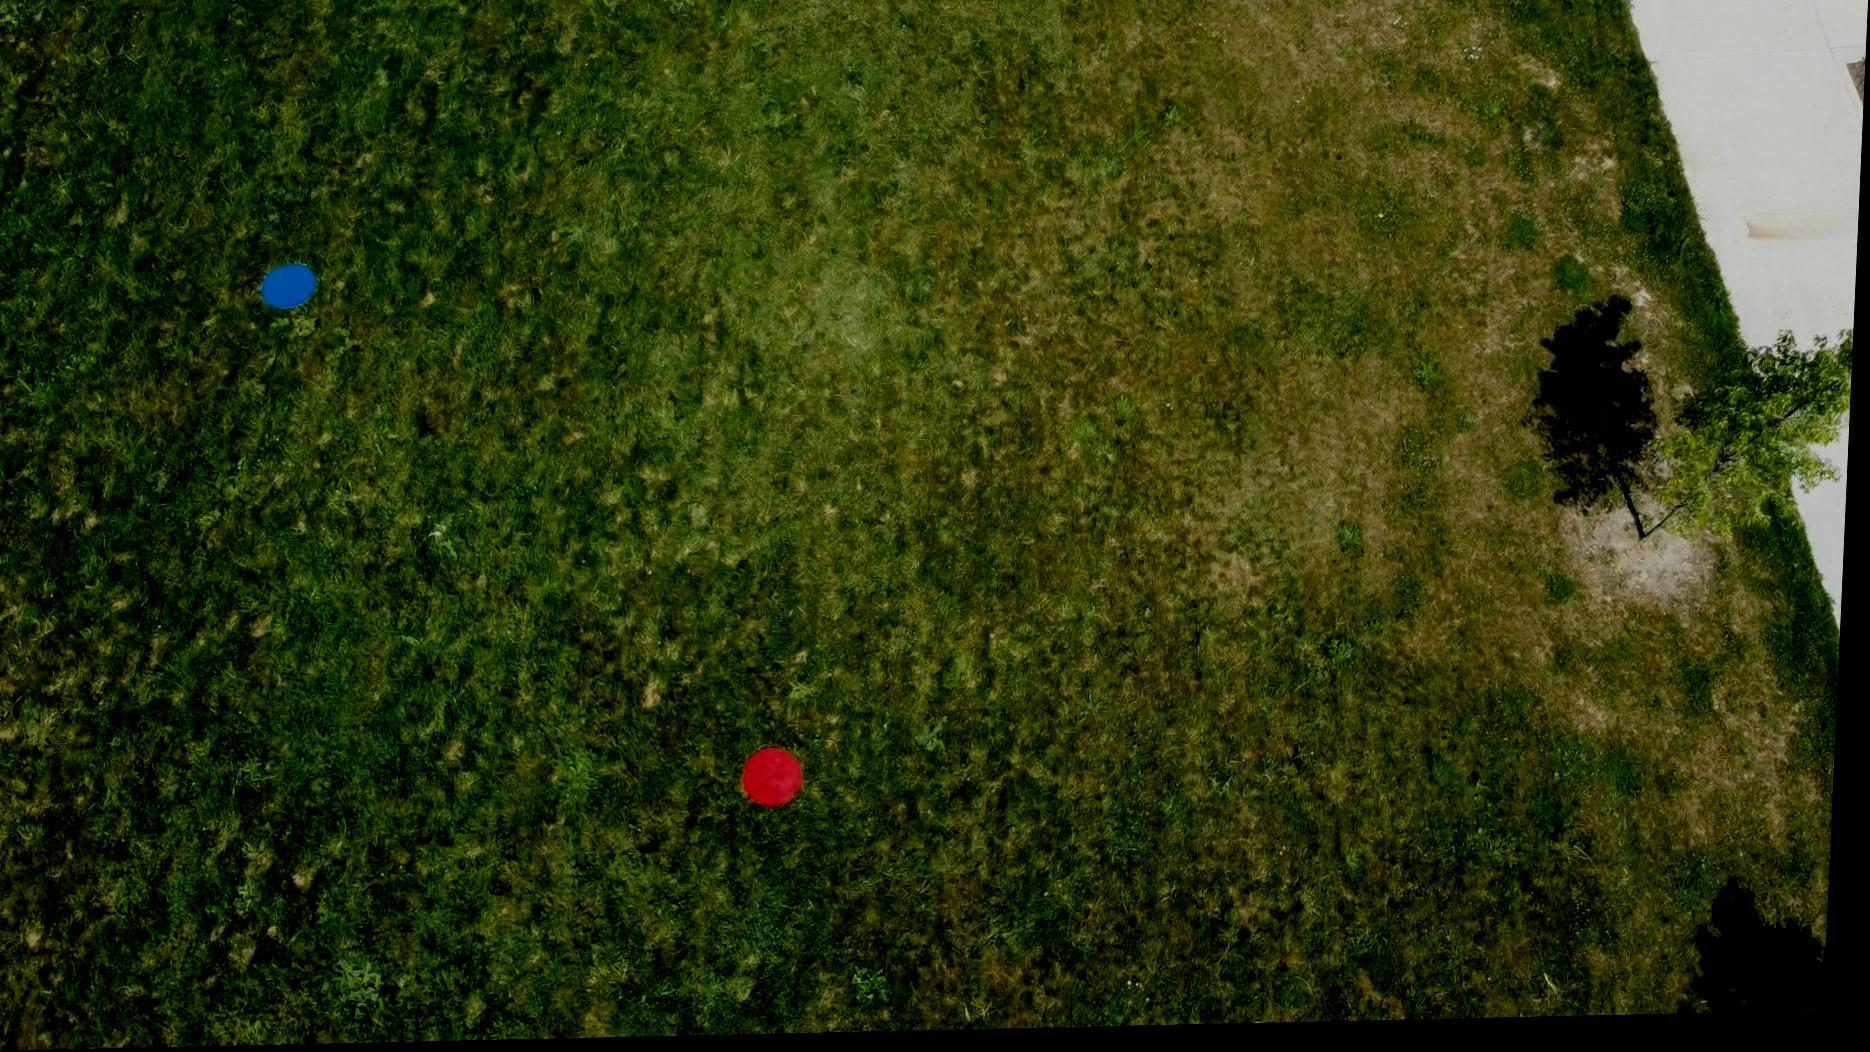Blue: (259, 262, 324, 313)
Red: (744, 749, 814, 814)
